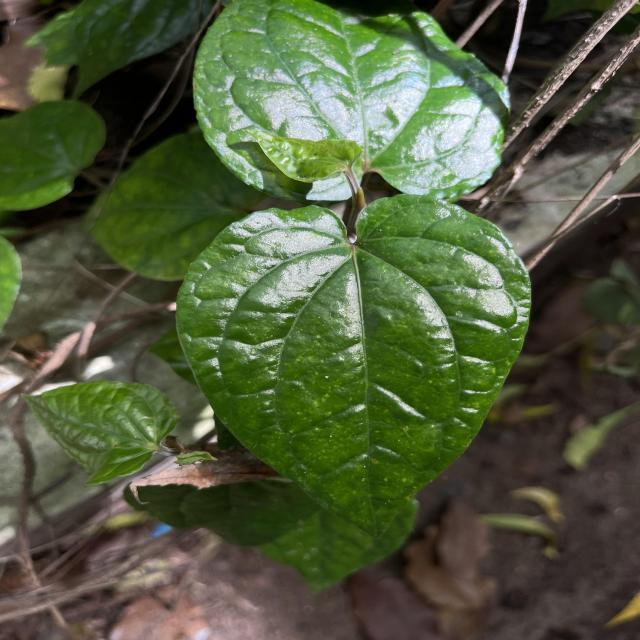Piper betle: (170, 191, 536, 543)
